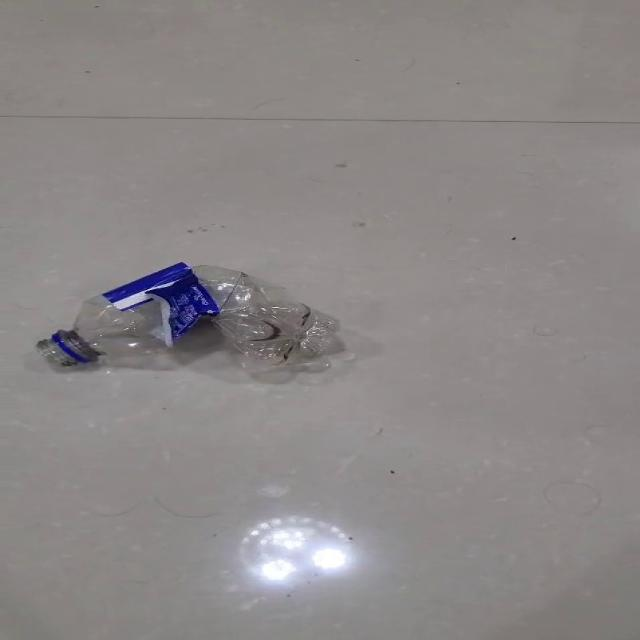plastic: (35, 260, 351, 374)
